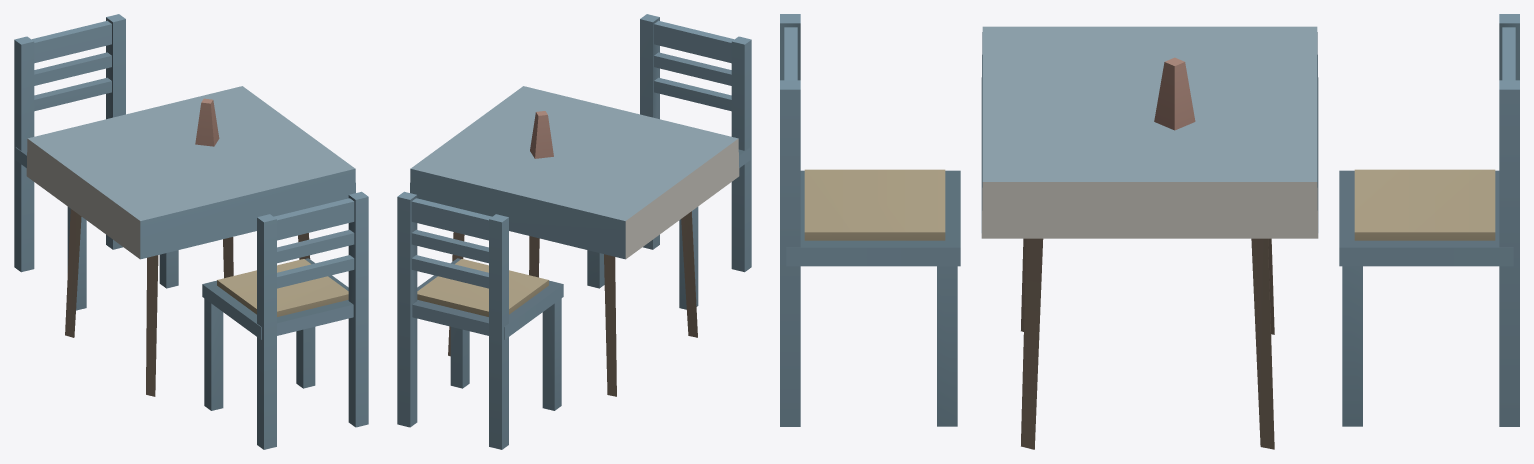
File: taverna.lod1.glb
3 renders of one model, left to right at view 1: azimuth 30°, elevation 25°; view 2: azimuth 150°, elevation 25°; view 3: azimuth 270°, elevation 25°, orthographic. The views are drawn at different scales.
Size of the model in its own units: 0.8944 by 0.9211 by 1.79.
